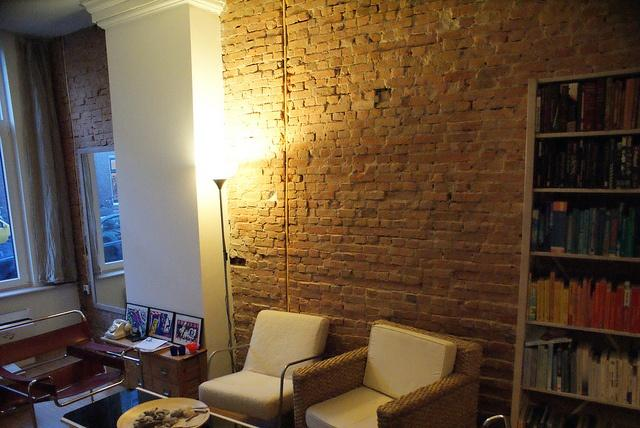Rak: (509, 66, 639, 427)
